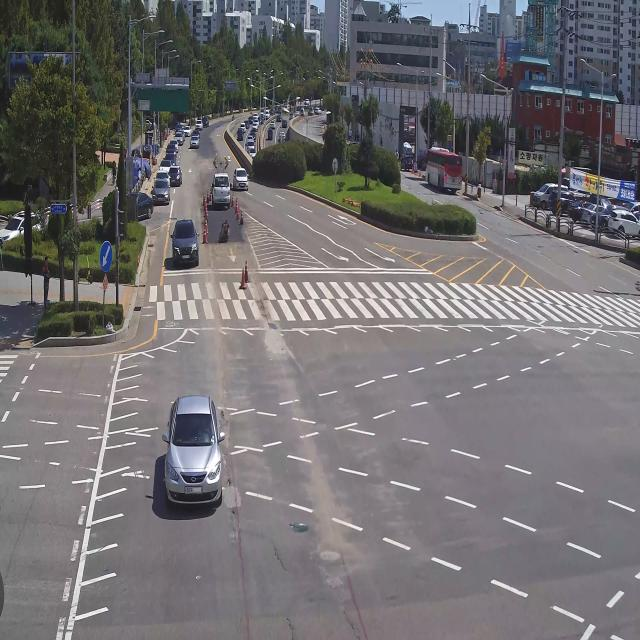Bus: (417, 135, 463, 196)
Car: (154, 385, 234, 517), (162, 210, 204, 281), (117, 187, 155, 223), (533, 181, 569, 213), (608, 207, 640, 238), (549, 188, 578, 214), (151, 178, 174, 209), (592, 203, 617, 230), (397, 139, 413, 175), (233, 161, 250, 193), (583, 202, 602, 229), (568, 198, 588, 222), (616, 198, 640, 214), (589, 192, 611, 208), (169, 164, 184, 185), (154, 169, 171, 187), (570, 186, 592, 199), (158, 159, 172, 176), (166, 118, 184, 130), (144, 117, 158, 132), (162, 152, 176, 167), (188, 135, 201, 150), (166, 142, 177, 158), (173, 132, 183, 145), (268, 118, 278, 130), (195, 117, 203, 131), (247, 139, 255, 153), (174, 123, 183, 135), (170, 139, 179, 151), (266, 126, 272, 144), (202, 116, 210, 129), (184, 126, 194, 136), (250, 129, 257, 143), (314, 104, 322, 116), (178, 130, 186, 141), (278, 130, 286, 140), (243, 118, 249, 130), (240, 122, 246, 133), (246, 134, 254, 142), (282, 119, 288, 129), (249, 148, 256, 156), (251, 123, 258, 131), (289, 111, 294, 122), (259, 106, 264, 117), (248, 116, 254, 125), (264, 109, 269, 119), (277, 105, 282, 115), (304, 97, 310, 105), (300, 108, 305, 117), (258, 116, 263, 125), (269, 107, 274, 116), (295, 110, 299, 120), (277, 115, 282, 122), (253, 112, 258, 119), (254, 119, 259, 126)
Motorcycle: (110, 157, 118, 183), (230, 112, 237, 126)
Truck: (205, 154, 232, 213), (236, 126, 243, 141), (308, 105, 314, 118), (252, 153, 256, 161)
